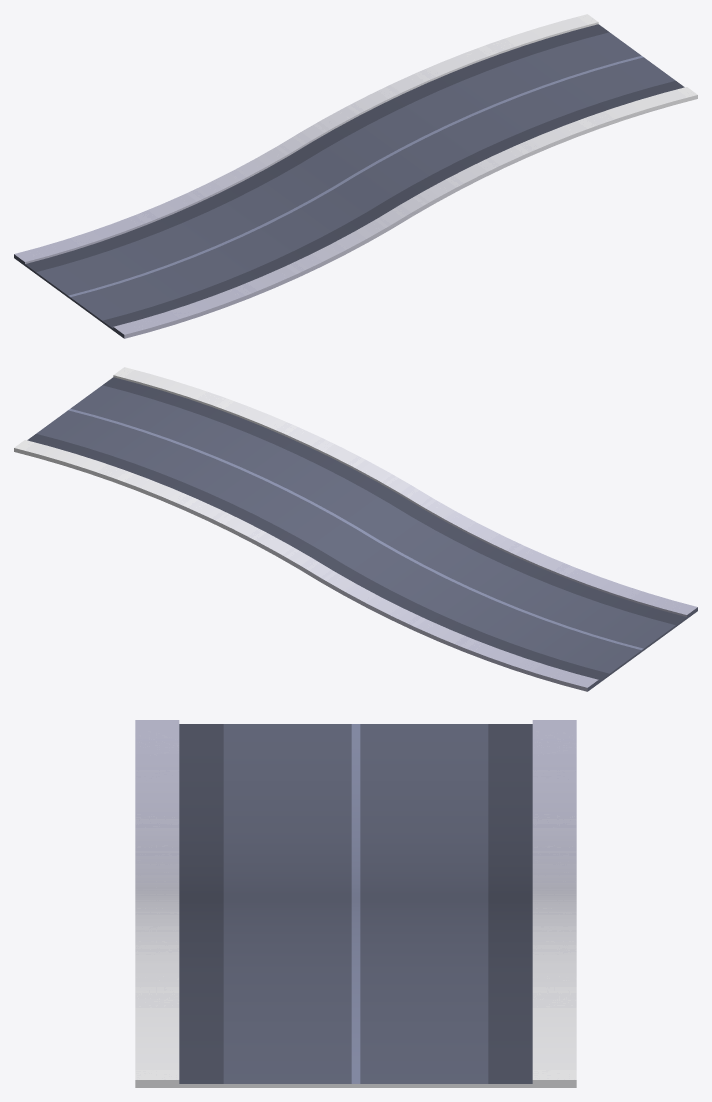
Rendered from road-slant-flat-curve_3.glb.
3 renders of one model, top to bottom at view 1: azimuth 30°, elevation 25°; view 2: azimuth 150°, elevation 25°; view 3: azimuth 270°, elevation 25°, orthographic. The views are drawn at different scales.
Parts seen in each view (by area): view 1: road-slant-flat-curve_3; view 2: road-slant-flat-curve_3; view 3: road-slant-flat-curve_3.
Part boxes in pixels (x1,y1,x2,y2): road-slant-flat-curve_3: [14, 14, 697, 338]; road-slant-flat-curve_3: [14, 367, 697, 691]; road-slant-flat-curve_3: [135, 720, 576, 1087].
Bounding box in the file's own units: 3 × 0.52 × 1.
1 material, 1 textured.
